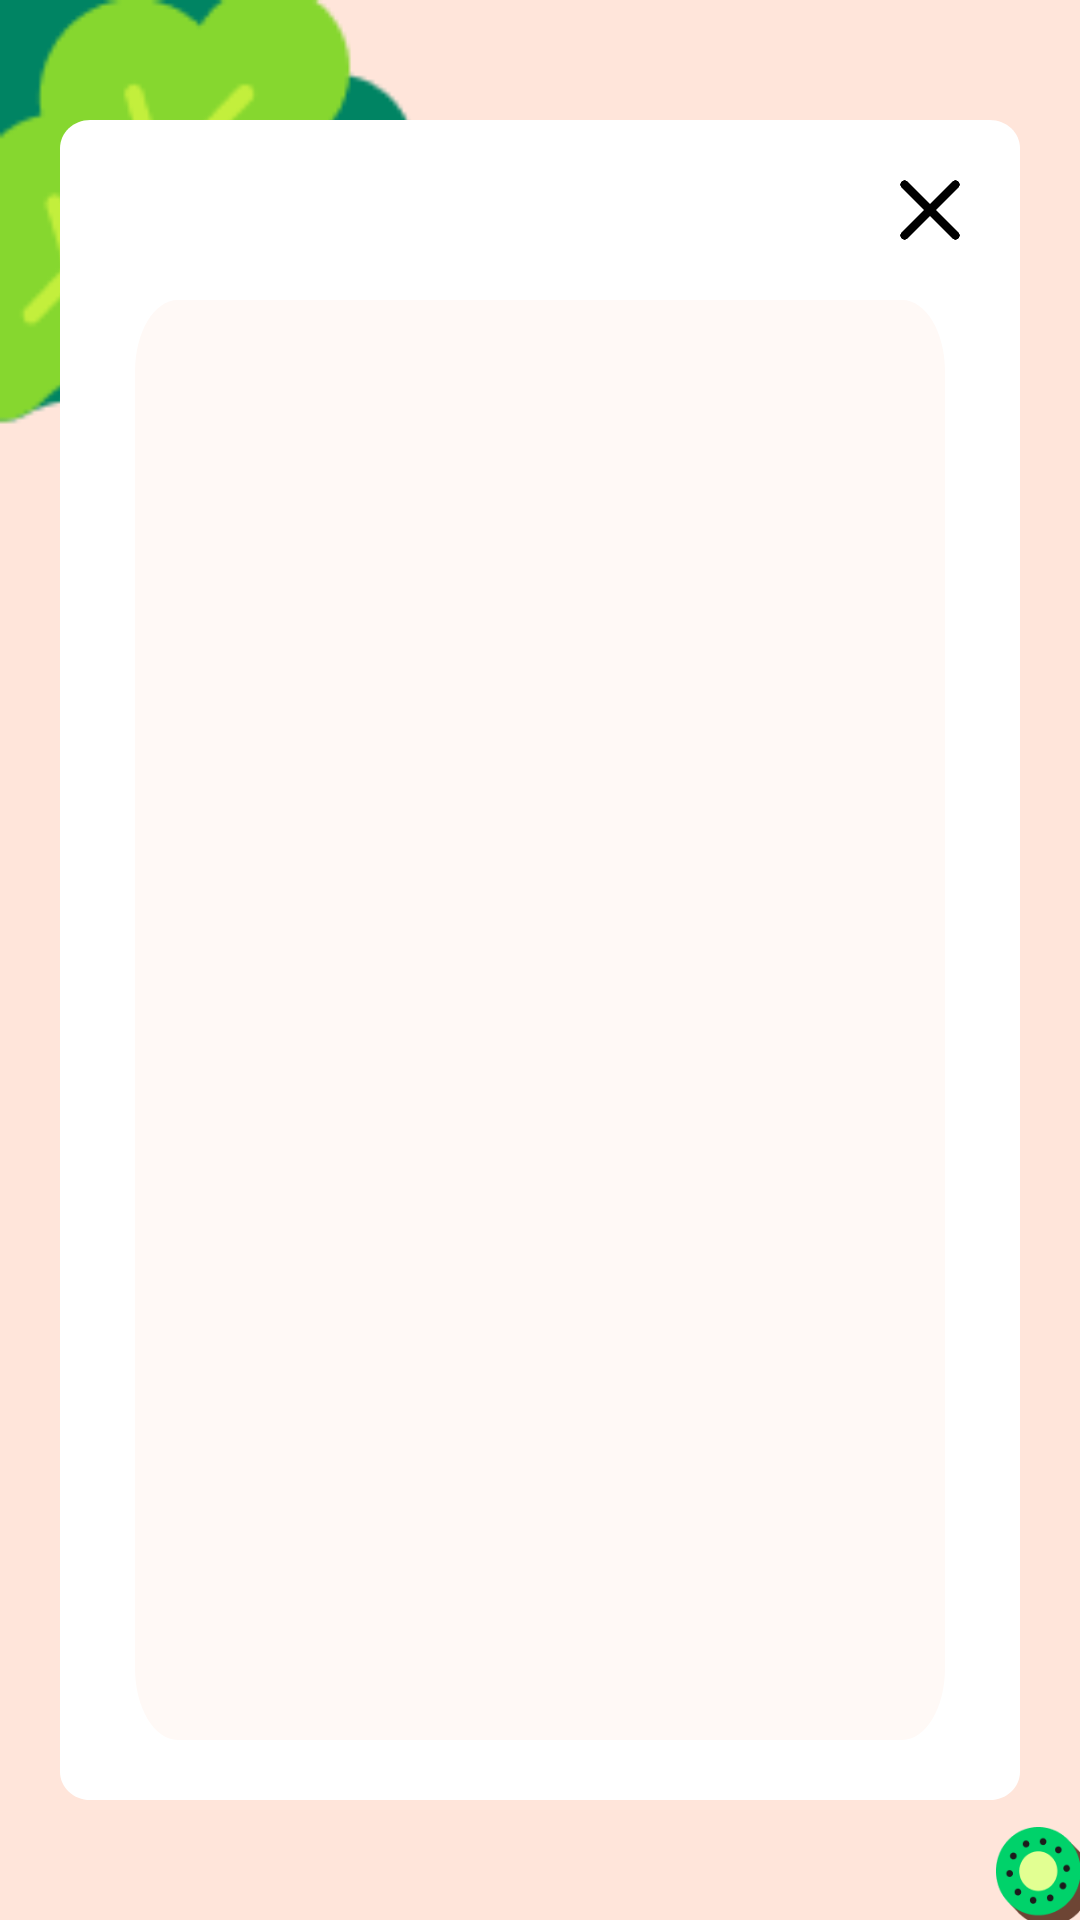

Screen size 1080w x 1920h. Icon name, then its center in pixels as (x=x, y=y):
kiwi: (x=1038, y=1873)
